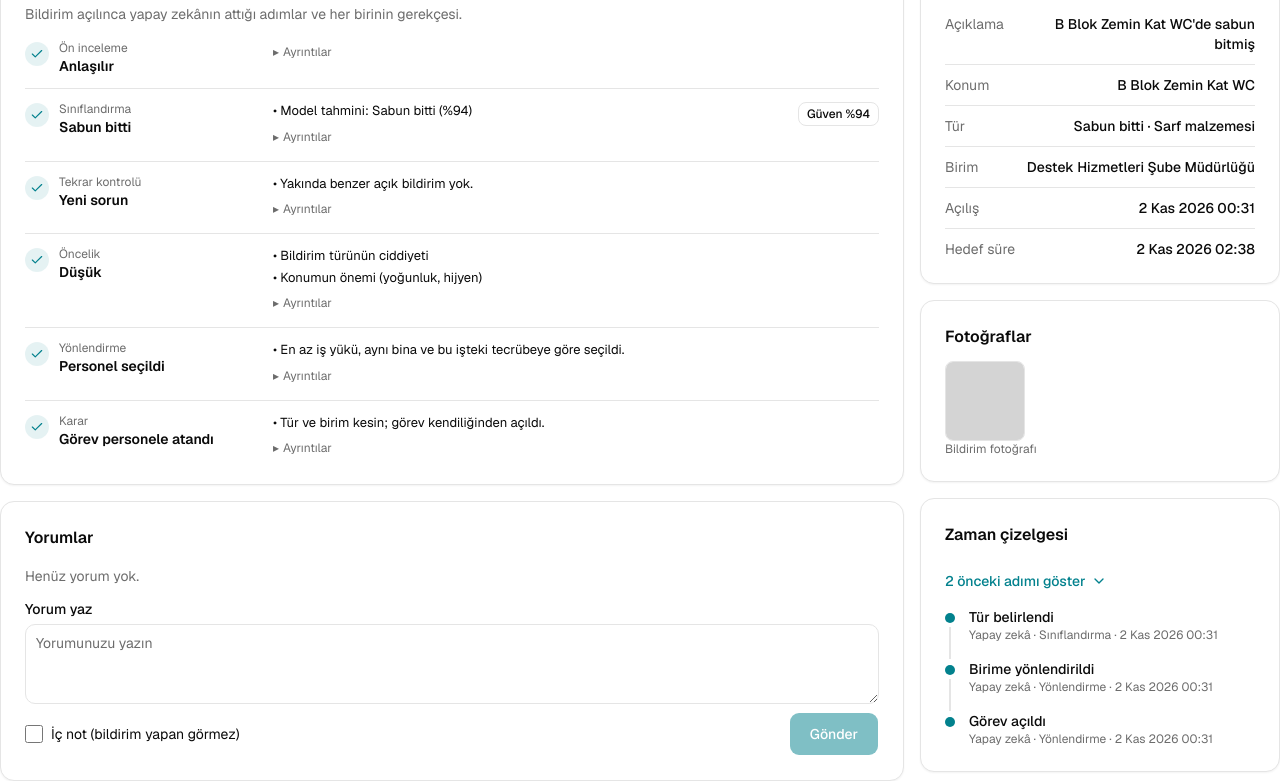
Test: ManagerCaseDetail › lists what happened with who did it
(page scrolled)
Click the button "2 önceki adımı göster". click: (1026, 581)
box: [945,559,1108,603]
(page scrolled)
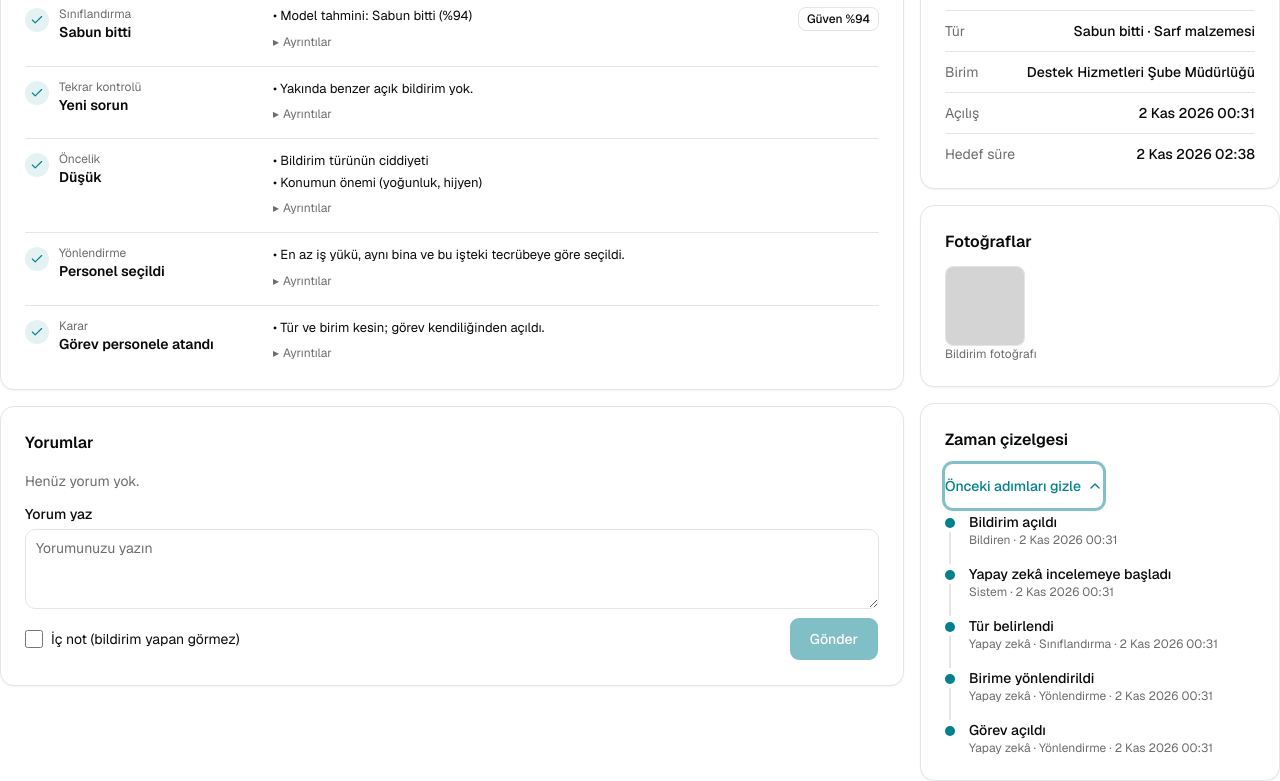
Expected: the list item "Tür belirlendi Yapay zekâ · Sınıflandırma · 2 Kas 2026 00:31" is shown, [945,616,1255,668]
Now the list item "Bildirim açıldı Bildiren · 2 Kas 2026 00:31" is shown, box [945,513,1117,564]
Now the list item "Yapay zekâ incelemeye başladı Sistem · 2 Kas 2026 00:31" is shown, box [945,565,1172,616]
